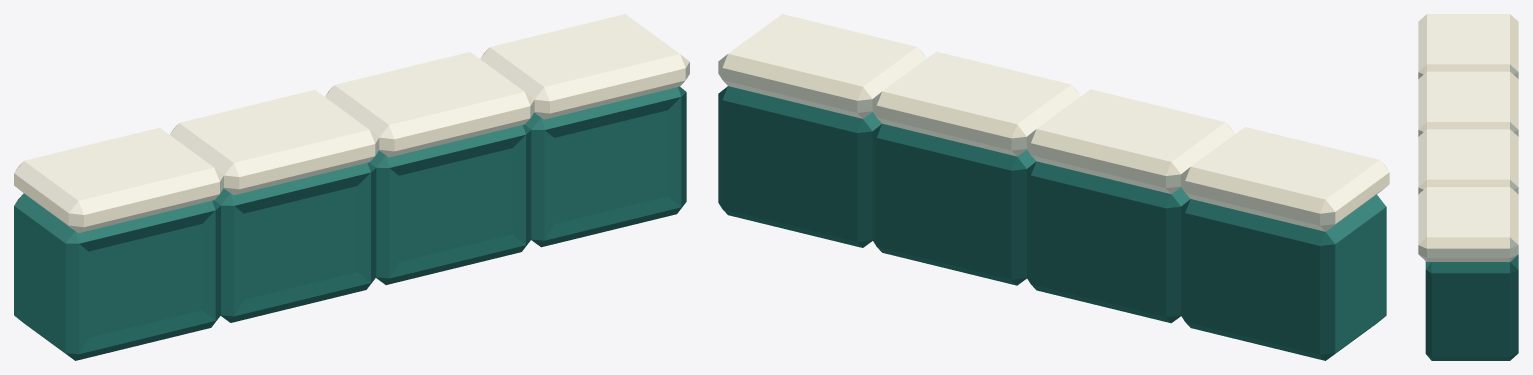
The model's file is Terrain_TopRun4.gltf.
3 views of the same model, side by side, from view 1: azimuth 30°, elevation 25°; view 2: azimuth 150°, elevation 25°; view 3: azimuth 270°, elevation 25° (orthographic). The views are drawn at different scales.
Visible parts, largest first — view 1: Terrain_TopRun4_baked; view 2: Terrain_TopRun4_baked; view 3: Terrain_TopRun4_baked.
Part boxes in pixels (bbox=[...]): Terrain_TopRun4_baked: bbox=[14, 14, 689, 360]; Terrain_TopRun4_baked: bbox=[718, 14, 1389, 360]; Terrain_TopRun4_baked: bbox=[1418, 14, 1518, 360].
Bounding box in the file's own units: 4 × 1 × 0.735.
